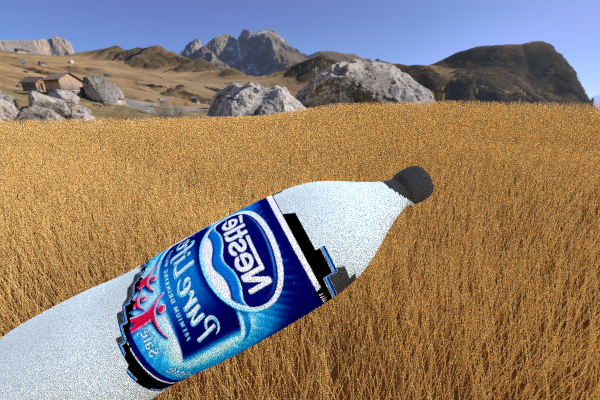bottle: (0, 165, 433, 400)
